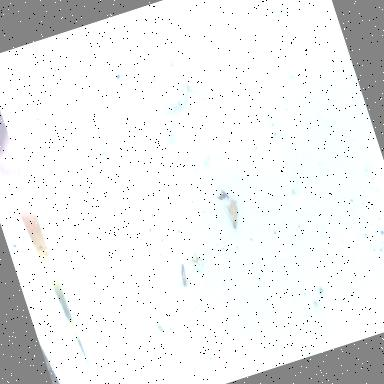pbw: (223, 195, 244, 228)
